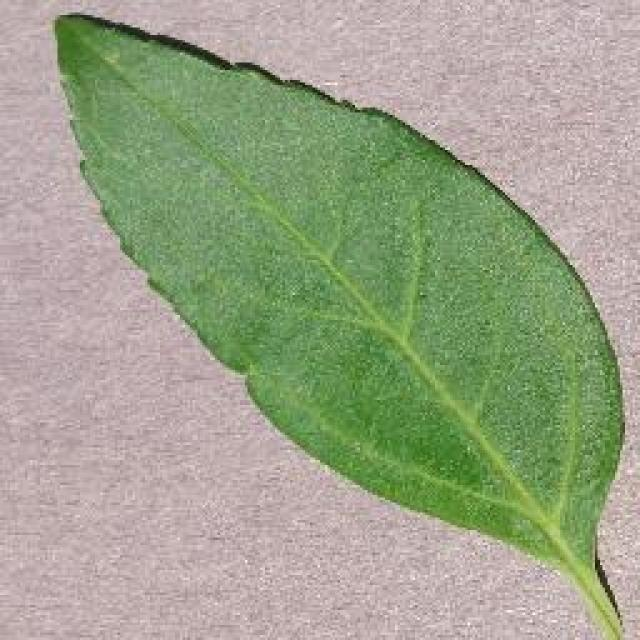Cher_including_sour_healthy: (152, 81, 554, 495)
